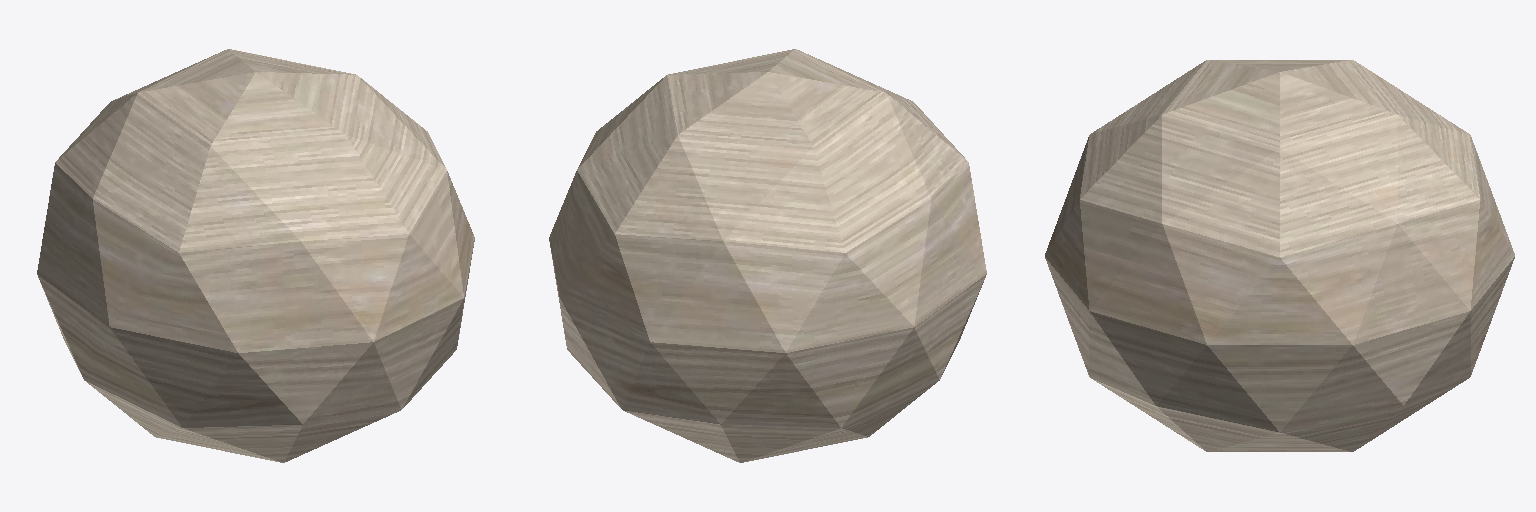
3 views of the same model, side by side, from view 1: azimuth 30°, elevation 25°; view 2: azimuth 150°, elevation 25°; view 3: azimuth 270°, elevation 25° (orthographic).
Visible parts, largest first — view 1: Icosphere; view 2: Icosphere; view 3: Icosphere.
Part boxes in pixels (x1,y1,x2,y2): Icosphere: (37,49,474,462); Icosphere: (549,49,986,462); Icosphere: (1045,60,1514,451).
Bounding box in the file's own units: 49.62 × 47.76 × 55.39.
Materials: 1 (1 with a texture image).